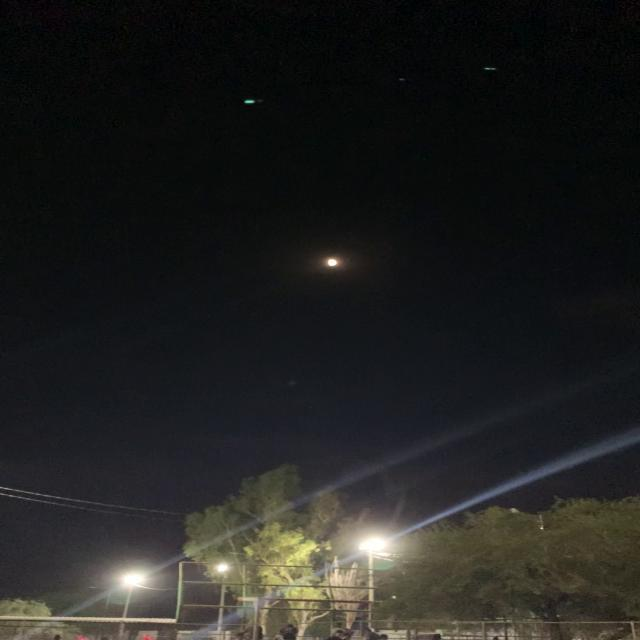moon: (308, 250, 355, 280)
